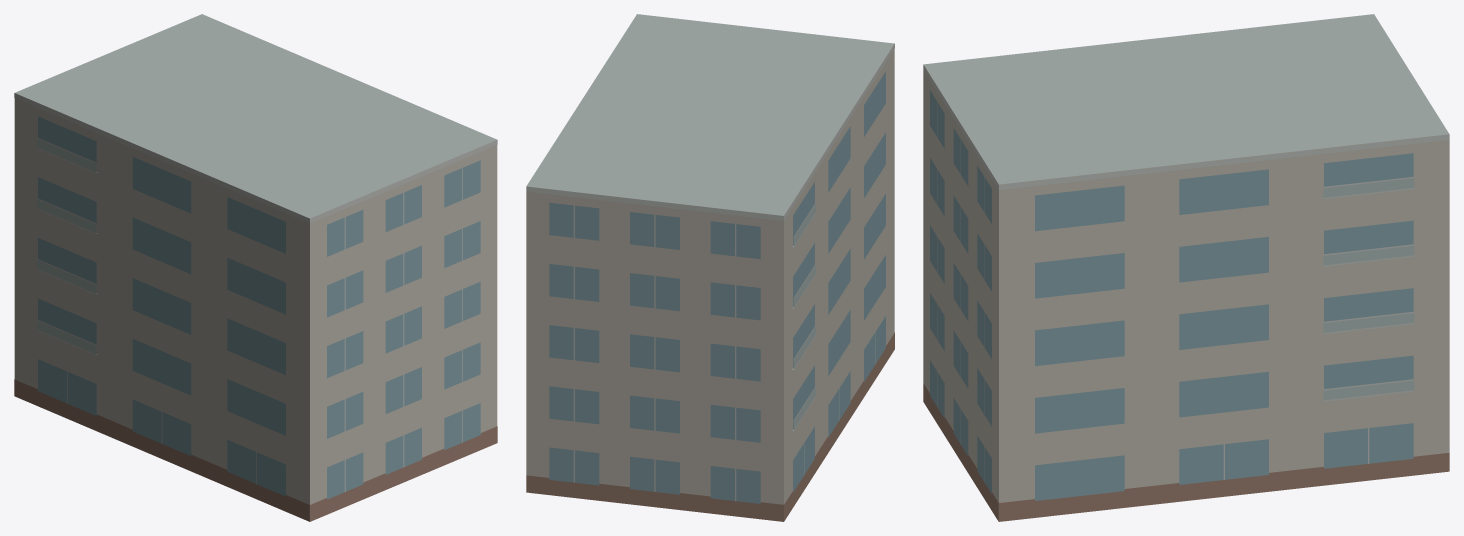
Rendered from survey-upis-32720008.glb.
The picture shows the model from 3 angles, left to right: view 1: azimuth 30°, elevation 25°; view 2: azimuth 150°, elevation 25°; view 3: azimuth 270°, elevation 25°; orthographic projection. The views are drawn at different scales.
Parts seen in each view (by area): view 1: survey-upis-32720008.tmp; view 2: survey-upis-32720008.tmp; view 3: survey-upis-32720008.tmp.
Boxes of the visible parts, box(x1,y1,x2,y2) form: survey-upis-32720008.tmp: box(14, 14, 497, 521); survey-upis-32720008.tmp: box(526, 14, 894, 521); survey-upis-32720008.tmp: box(923, 14, 1449, 521).
Size of the model in its own units: 15.84 by 14.6 by 20.65.
